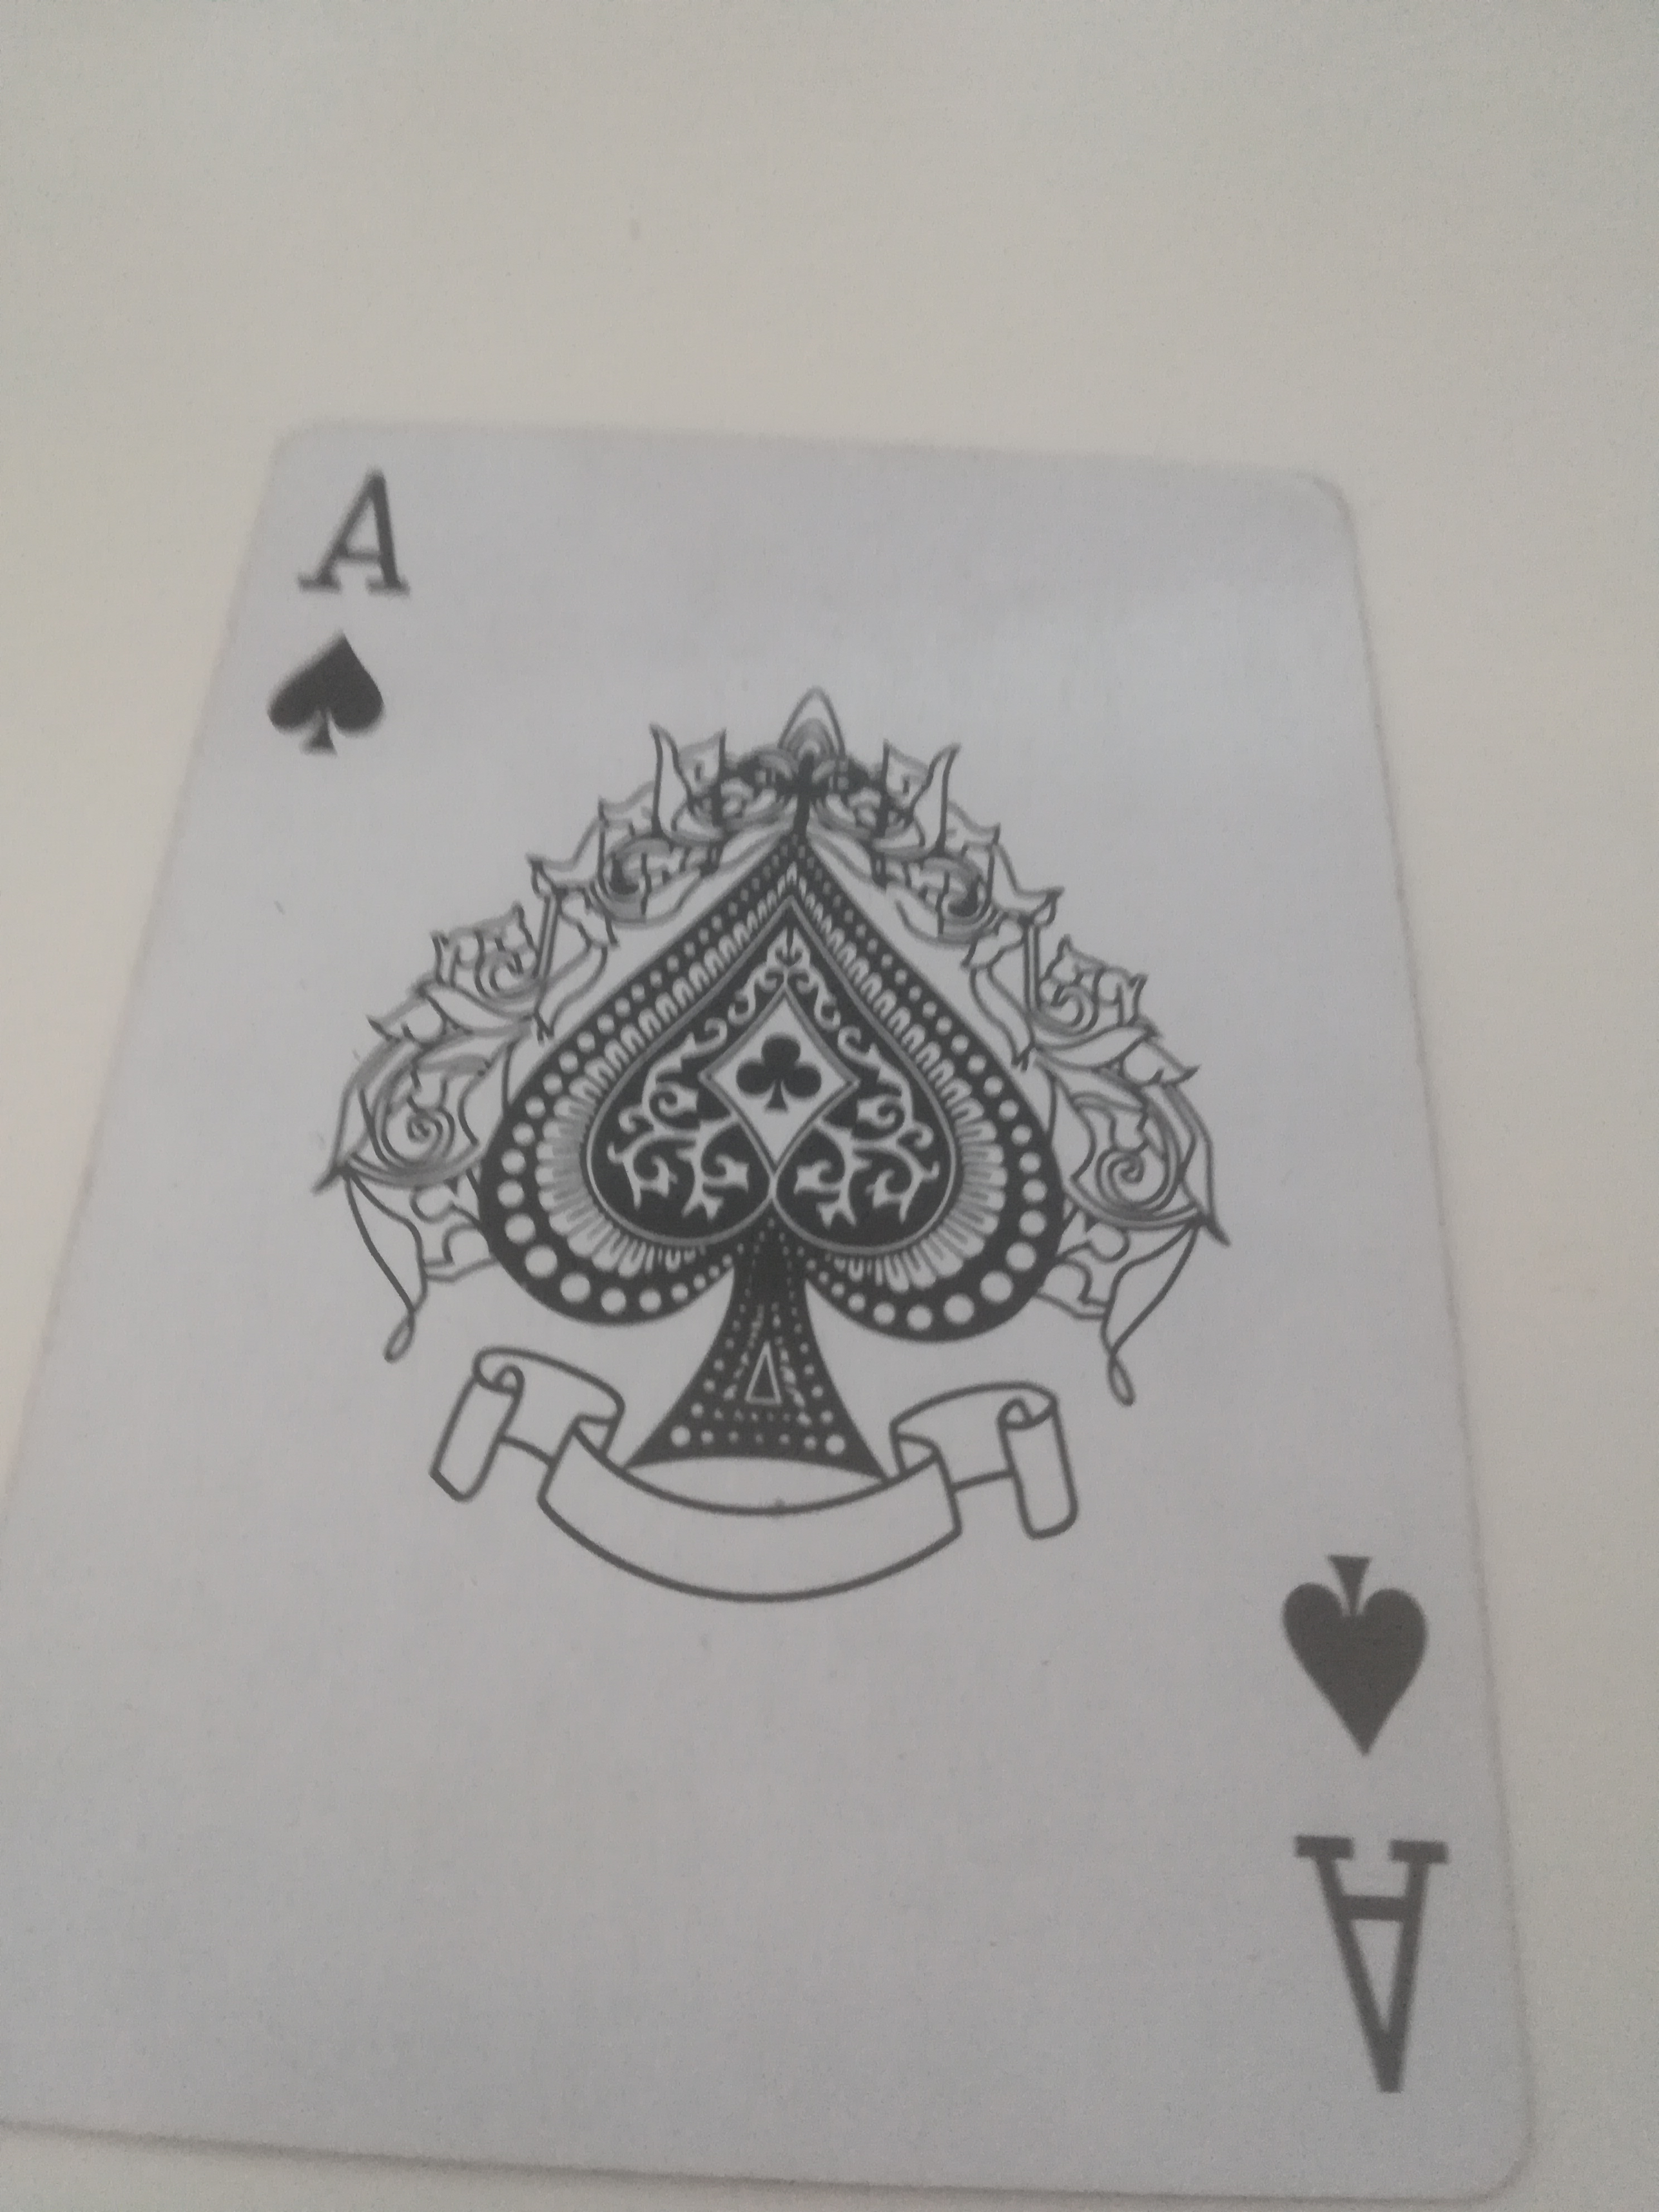AS: (0, 413, 1534, 2195)
